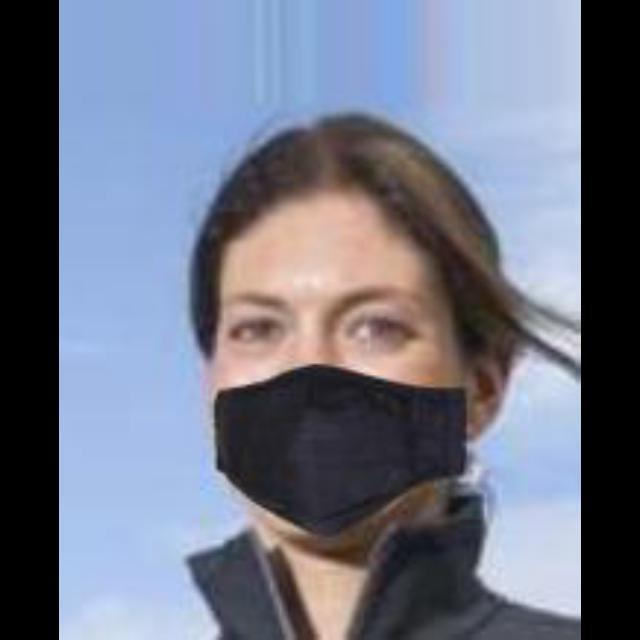suspicion: (176, 52, 518, 554)
